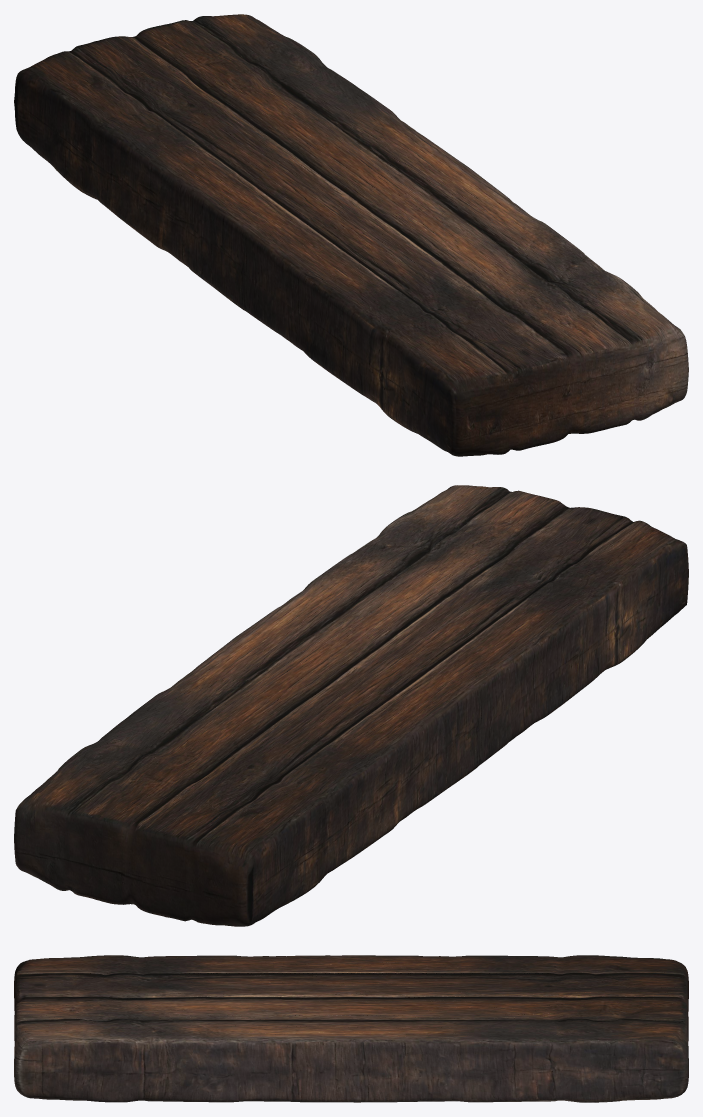
The model's file is BigPlank1.fbx.
3 renders of one model, top to bottom at view 1: azimuth 30°, elevation 25°; view 2: azimuth 150°, elevation 25°; view 3: azimuth 270°, elevation 25°, orthographic. The views are drawn at different scales.
Visible parts, largest first — view 1: bigwoodenP1.001; view 2: bigwoodenP1.001; view 3: bigwoodenP1.001.
Part boxes in pixels (box(x1,y1,x2,y2)): bigwoodenP1.001: box(14, 14, 688, 456); bigwoodenP1.001: box(14, 485, 688, 926); bigwoodenP1.001: box(14, 955, 688, 1102).
Size of the model in its own units: 61.31 by 20.92 by 200.
1 material, 1 textured.
